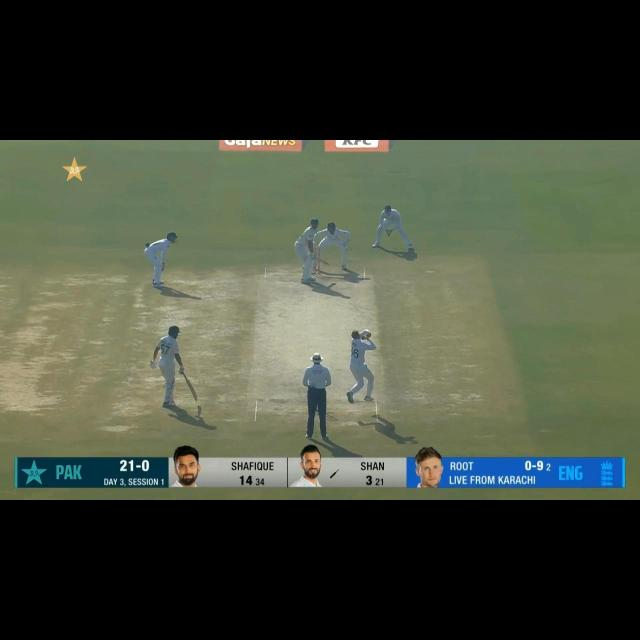bat: (184, 372, 197, 401), (315, 258, 331, 266)
toe: (192, 392, 198, 401), (326, 262, 332, 266)
